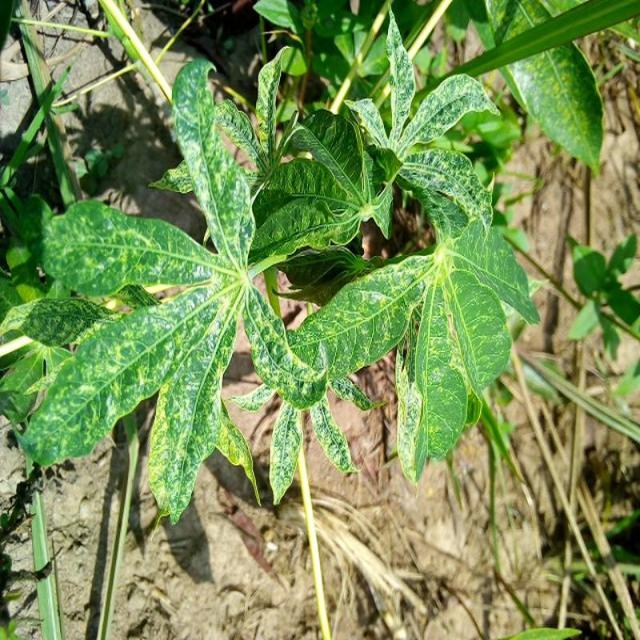cassava leaf: (6, 8, 540, 526)
